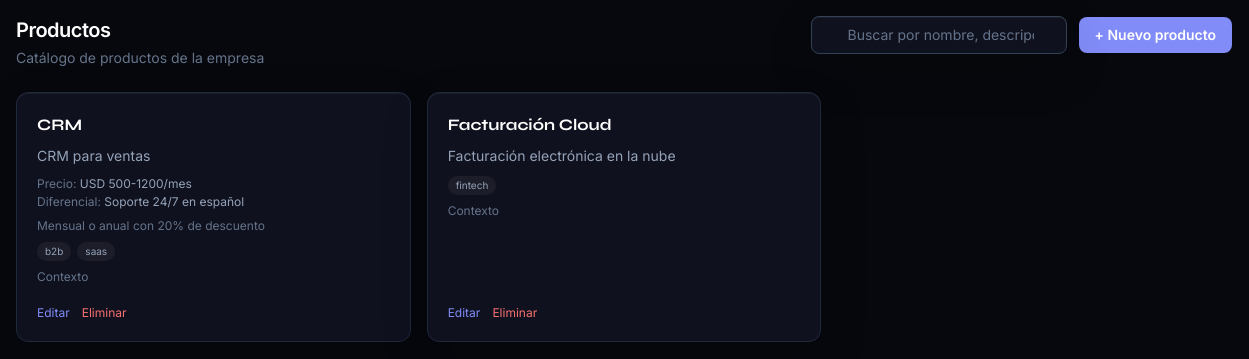
it: ProductsScreen › search narrows the list by name, and clearing restores it
Expected: the heading "CRM" is shown, [37,115,82,134]
Expected: the heading "Facturación Cloud" is shown, [448,115,612,134]
Type "factur" into the field with placeholder "Buscar por nombre, descripción o tag..." at (938, 35), box [810,16,1066,54]
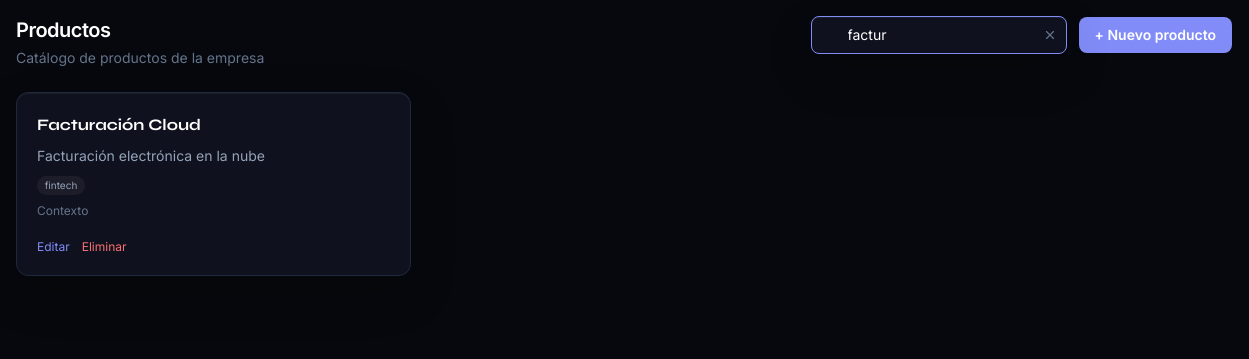
Expected: the heading "Facturación Cloud" is shown, [37,115,201,134]
Now the heading "CRM" is gone
Clear the field with placeholder "Buscar por nombre, descripción o tag..." at (938, 35), box [810,16,1066,54]
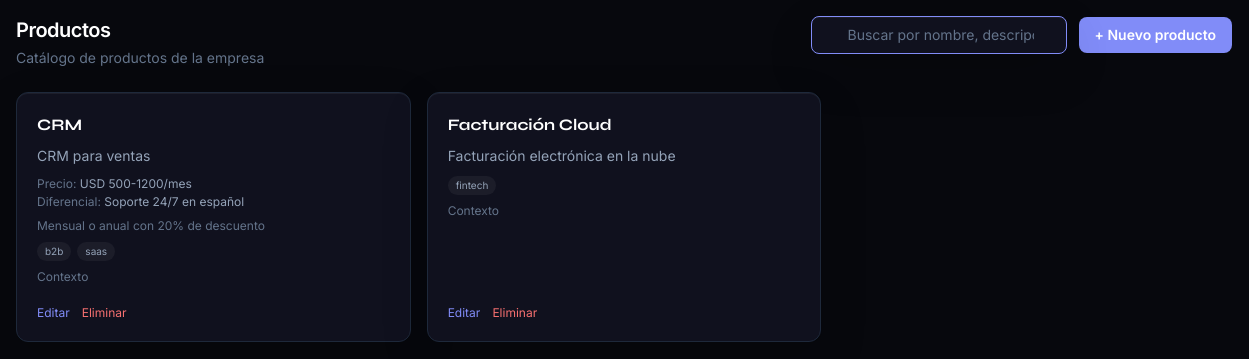
Expected: the heading "Facturación Cloud" is shown, [448,115,612,134]
Now the heading "CRM" is shown, box [37,115,82,134]
